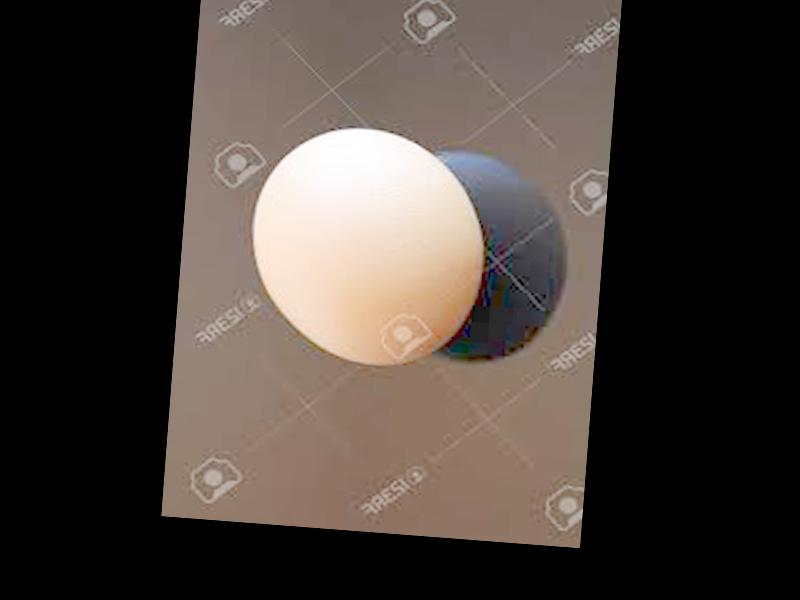Eggs: (243, 119, 494, 371)
